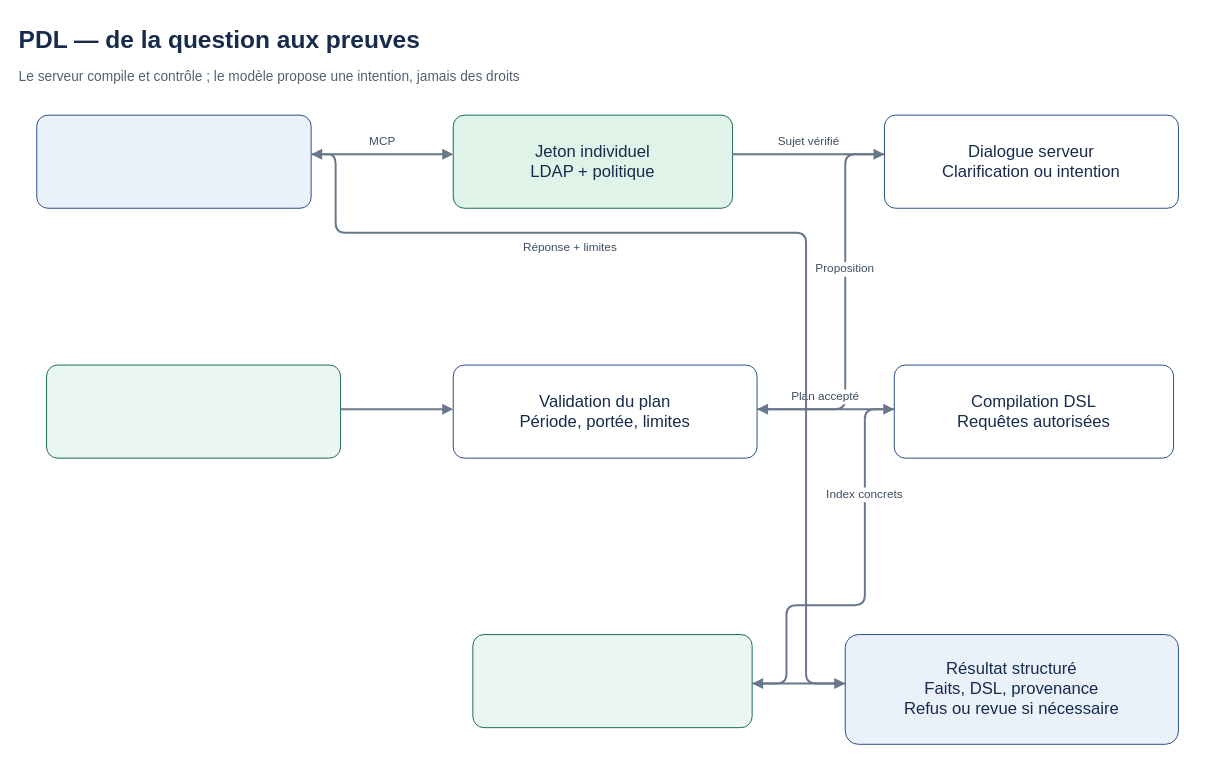
This 1219x761 diagram has some shape labels left out. The shapes that lost their labels are listed below. From the top down, each one's centre as x and y in pixels, then its label:
At point (173, 161): "Question complète + jeton de reprise".
At point (193, 411): "Inventaire + catalogue Mappings approuvés".
At point (612, 681): "OpenSearch Lectures seulement".
